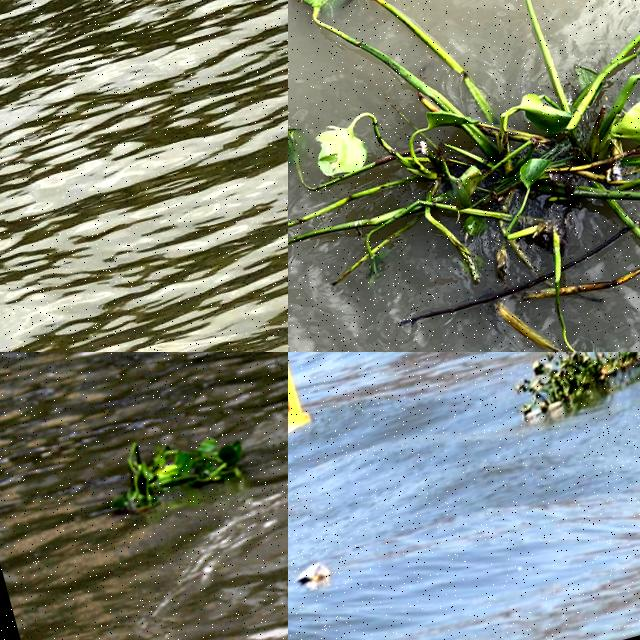water-hyacinth: (289, 1, 640, 353), (111, 406, 257, 524), (505, 353, 640, 421), (1, 1, 67, 35)
